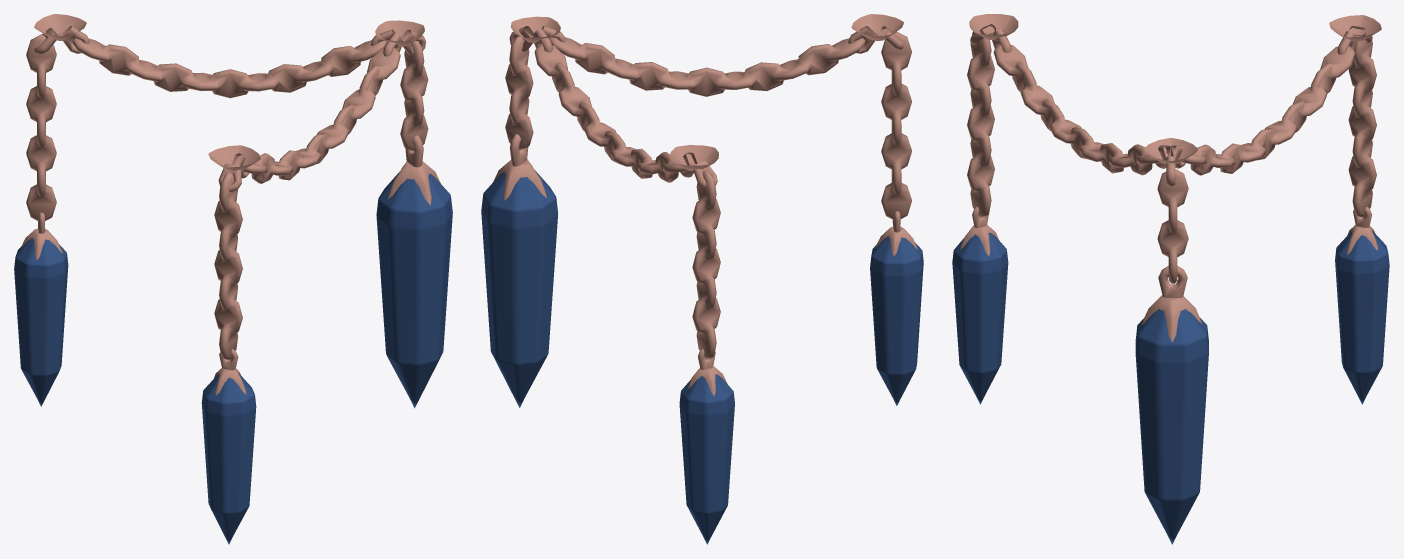
The model's file is Lamp_Celling_Crystal_01.fbx.
The picture shows the model from 3 angles, left to right: view 1: azimuth 30°, elevation 25°; view 2: azimuth 150°, elevation 25°; view 3: azimuth 270°, elevation 25°; orthographic projection.
Parts seen in each view (by area): view 1: Lamp_Celling_Crystal_01, Celling_Crystal; view 2: Lamp_Celling_Crystal_01, Celling_Crystal; view 3: Celling_Crystal, Lamp_Celling_Crystal_01.
Boxes of the visible parts, x1,y1,x2,y2 form: Lamp_Celling_Crystal_01: [20, 14, 440, 395]; Celling_Crystal: [14, 171, 452, 544]; Lamp_Celling_Crystal_01: [493, 14, 917, 395]; Celling_Crystal: [481, 169, 923, 544]; Celling_Crystal: [952, 231, 1389, 544]; Lamp_Celling_Crystal_01: [960, 14, 1381, 342].
Bounding box in the file's own units: 0.89 × 0.9707 × 0.9896.
